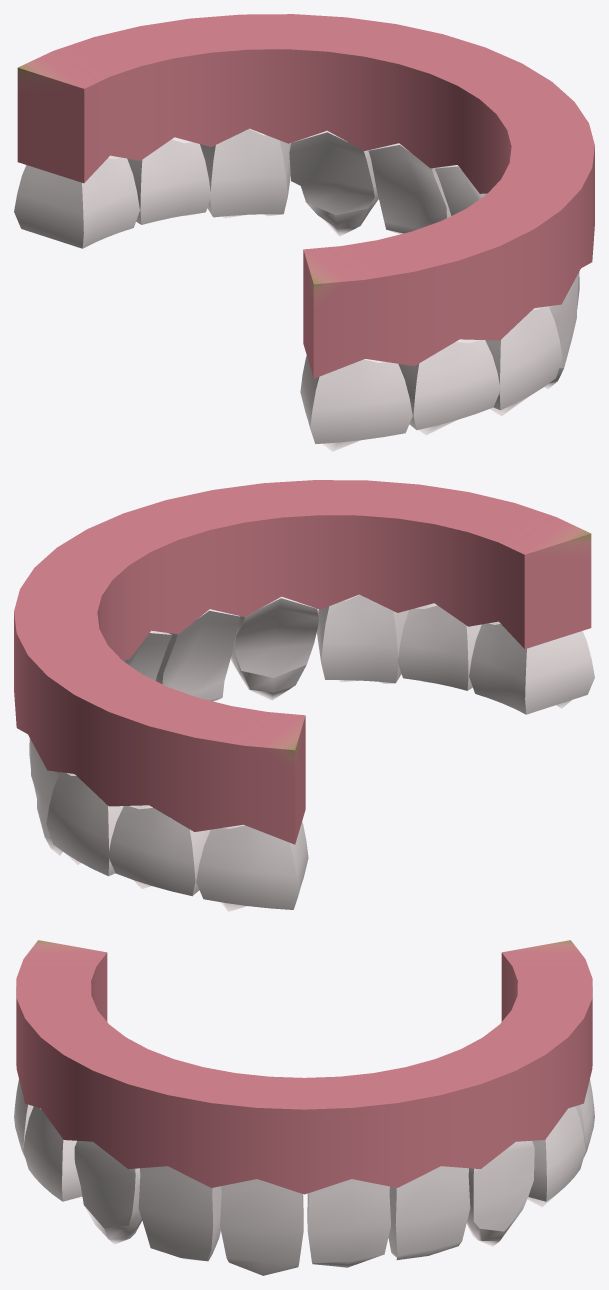
Rendered from TeethTop.fbx.
The picture shows the model from 3 angles, top to bottom: view 1: azimuth 30°, elevation 25°; view 2: azimuth 150°, elevation 25°; view 3: azimuth 270°, elevation 25°; orthographic projection. The views are drawn at different scales.
Parts seen in each view (by area): view 1: Teeth; view 2: Teeth; view 3: Teeth.
Boxes of the visible parts, x1,y1,x2,y2 form: Teeth: (14,14,594,451); Teeth: (14,480,594,911); Teeth: (14,940,594,1275).
Size of the model in its own units: 16.66 by 8.38 by 23.9.
